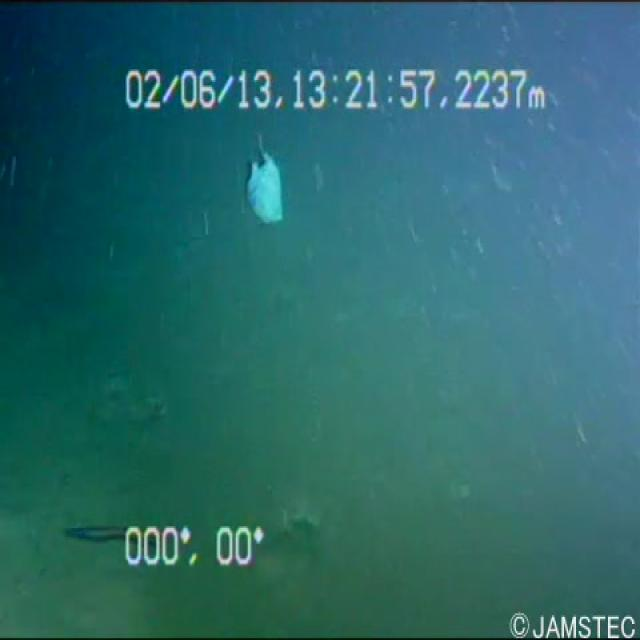plastic: (231, 142, 316, 262)
